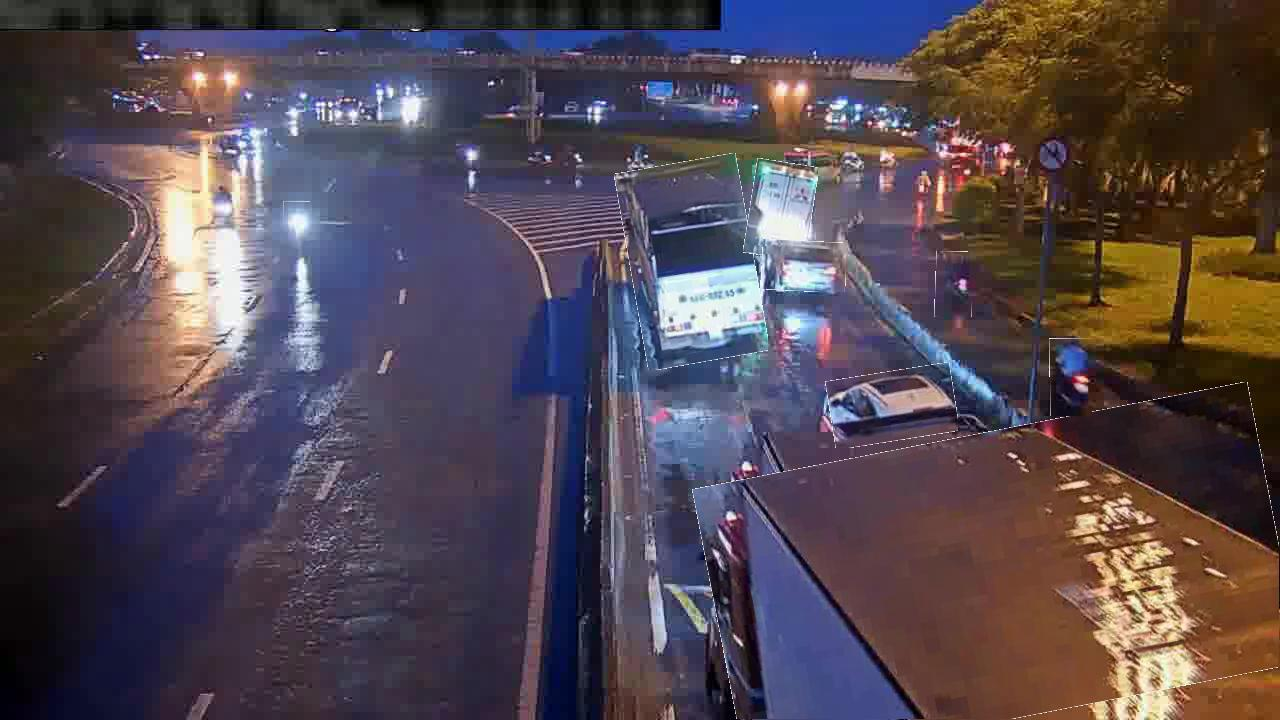8: (703, 407, 1279, 719), (622, 158, 761, 367), (747, 160, 816, 259)
container: (828, 367, 957, 445), (762, 240, 846, 292)
motorbike: (1050, 338, 1093, 417), (935, 252, 973, 318), (283, 201, 311, 250)
